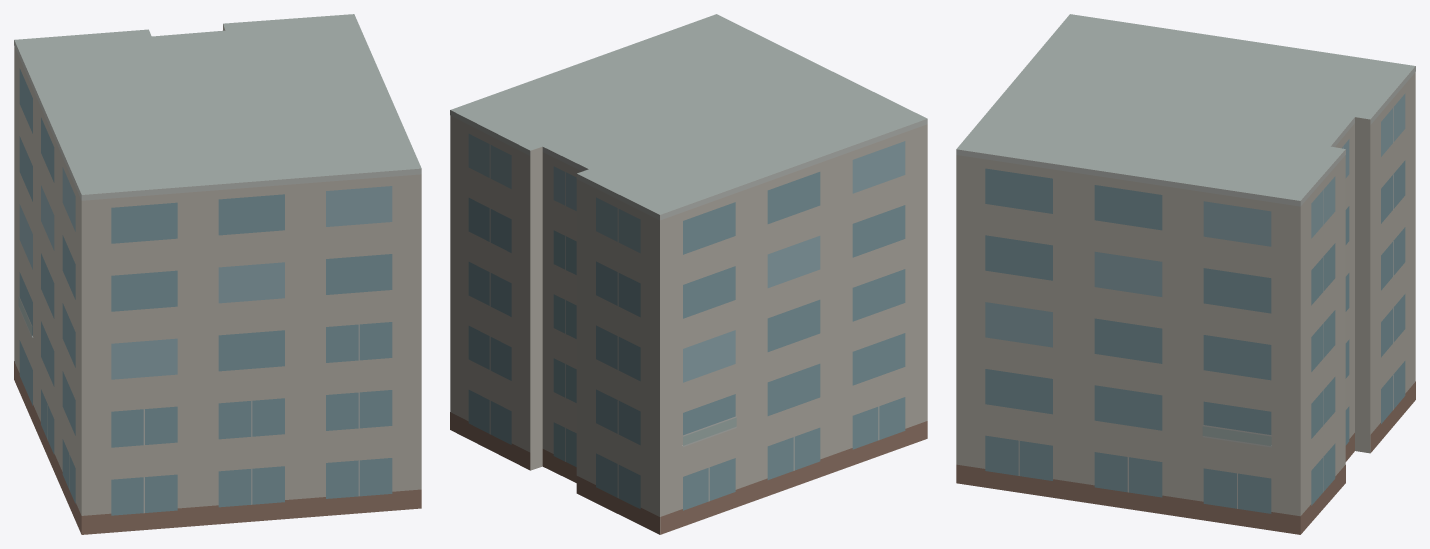
Rendered from survey-upis-32851882.glb.
3 views of the same model, side by side, from view 1: azimuth 30°, elevation 25°; view 2: azimuth 150°, elevation 25°; view 3: azimuth 270°, elevation 25° (orthographic). The views are drawn at different scales.
Parts seen in each view (by area): view 1: survey-upis-32851882.tmp; view 2: survey-upis-32851882.tmp; view 3: survey-upis-32851882.tmp.
Part boxes in pixels (bbox=[...]): survey-upis-32851882.tmp: bbox=[14, 14, 421, 534]; survey-upis-32851882.tmp: bbox=[450, 14, 927, 534]; survey-upis-32851882.tmp: bbox=[956, 14, 1415, 534].
Size of the model in its own units: 17.24 by 14.35 by 17.91.
